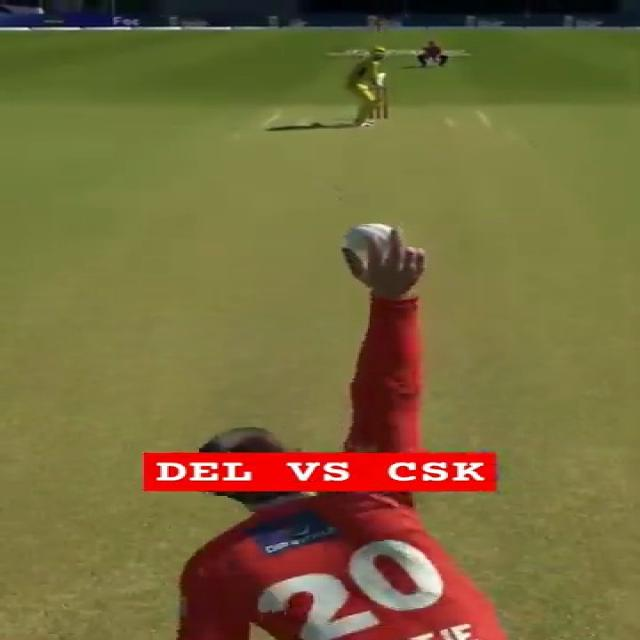ball: (343, 223, 395, 253)
